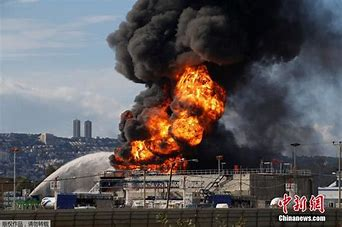fire: (117, 52, 228, 167)
